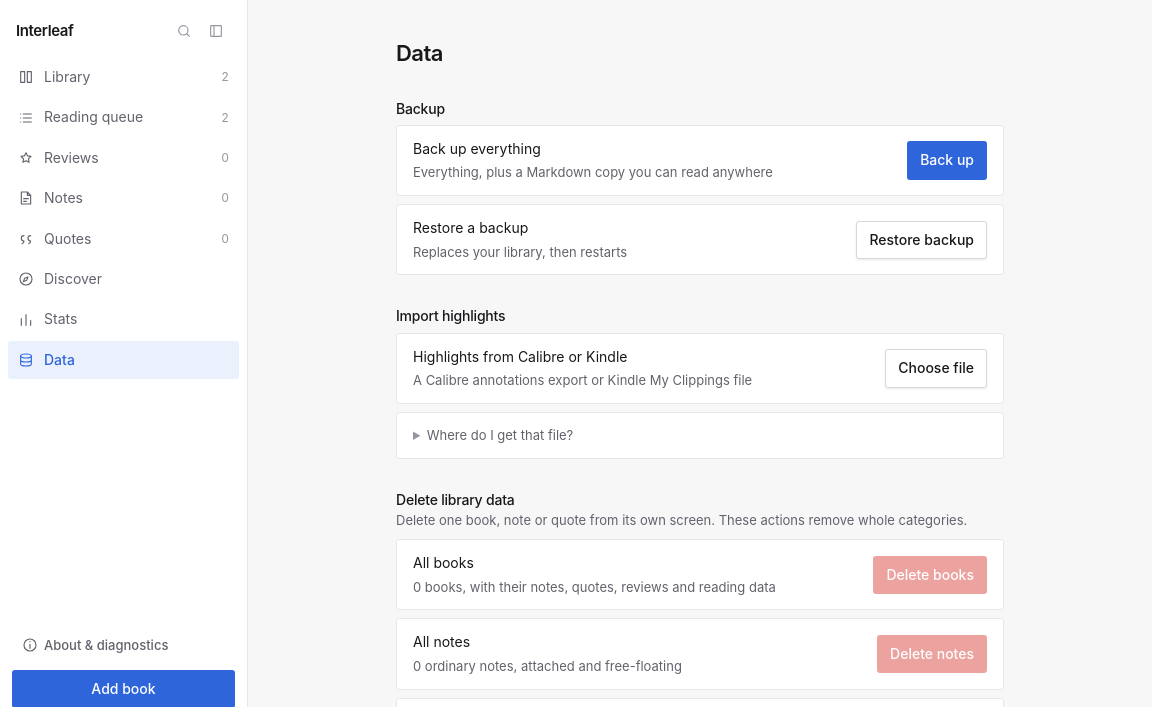
Test: starting an import from Data › keeps the Calibre steps out of the way until they are asked for
Click the heading "Where do I get that file?" at (500, 435), box [427,427,573,443]
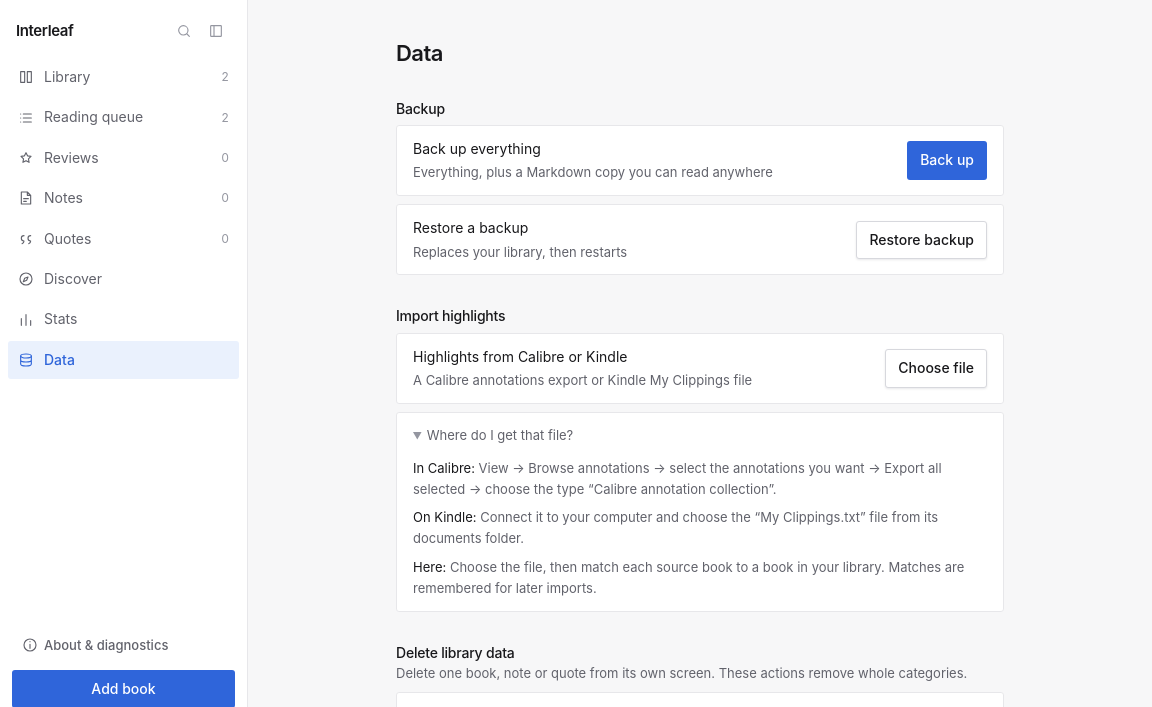
Expected: the text "Browse annotations" is shown, [413,460,942,497]
Expected: the text "My Clippings.txt" is shown, [413,510,938,546]
